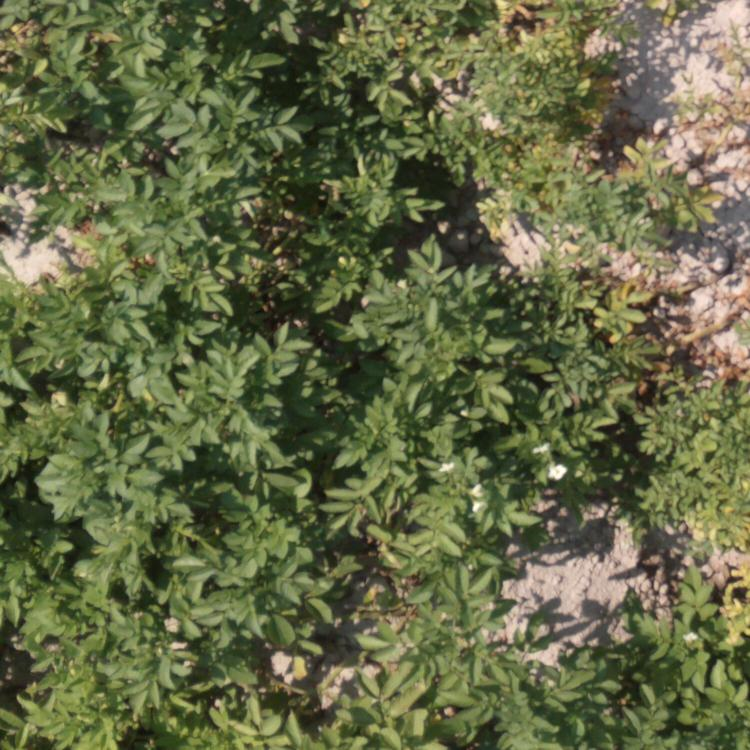healthy: (1, 375, 553, 739), (1, 1, 398, 371), (565, 602, 744, 750), (413, 260, 574, 364)
stressed: (579, 273, 750, 534), (413, 6, 615, 141), (492, 145, 706, 254)
